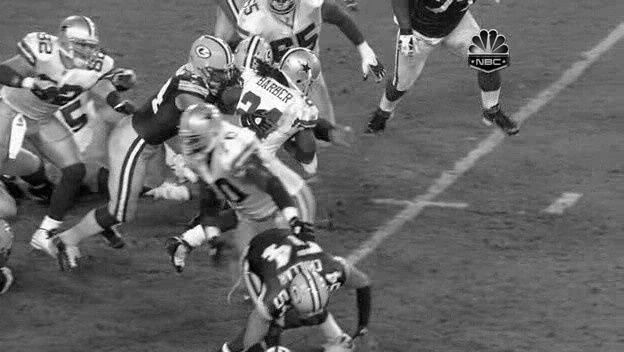person: (284, 49, 319, 94), (283, 49, 318, 94), (285, 49, 320, 94), (284, 48, 319, 93), (284, 50, 319, 95)
target_negative: (187, 38, 533, 181), (338, 70, 472, 314), (263, 72, 468, 161), (136, 288, 301, 297), (390, 320, 495, 326)
